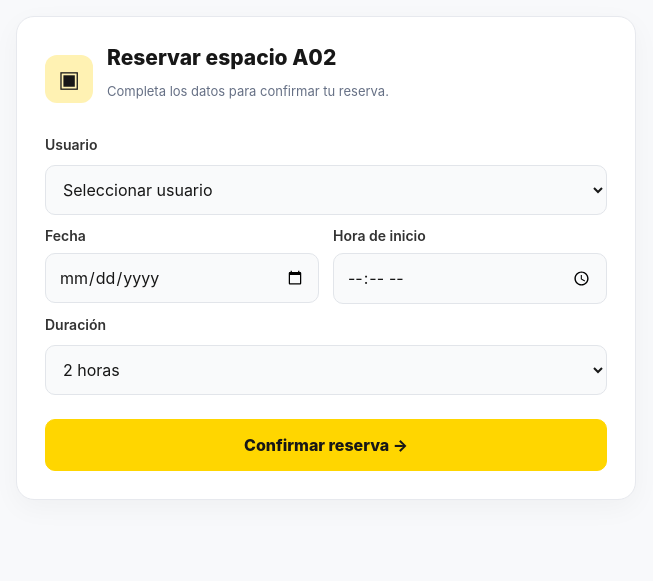
Test case: BookingForm › does not submit an invalid past date
Select "Usuario Prueba — prueba@example.com" in the dropdown labelled "Usuario" at (326, 190), box [45,165,607,215]
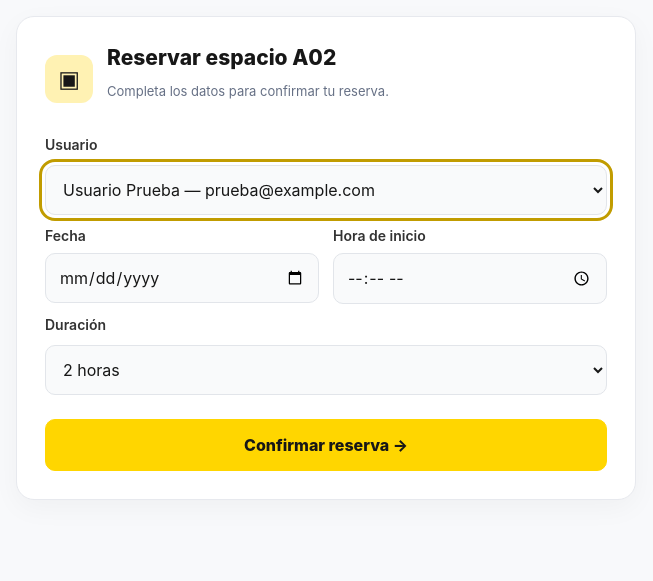
Type "2020-01-01" into the date field labelled "Fecha" at (182, 278), box [45,253,319,303]
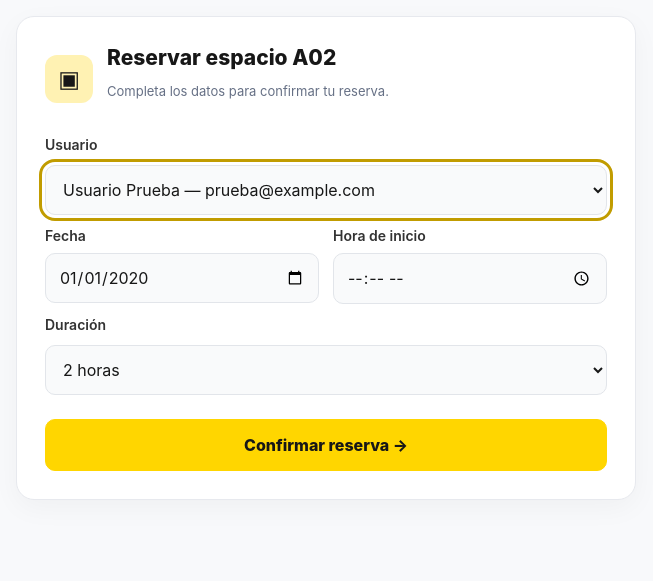
Type "10:00" into the time field labelled "Hora de inicio" at (470, 278), box [333,253,607,304]
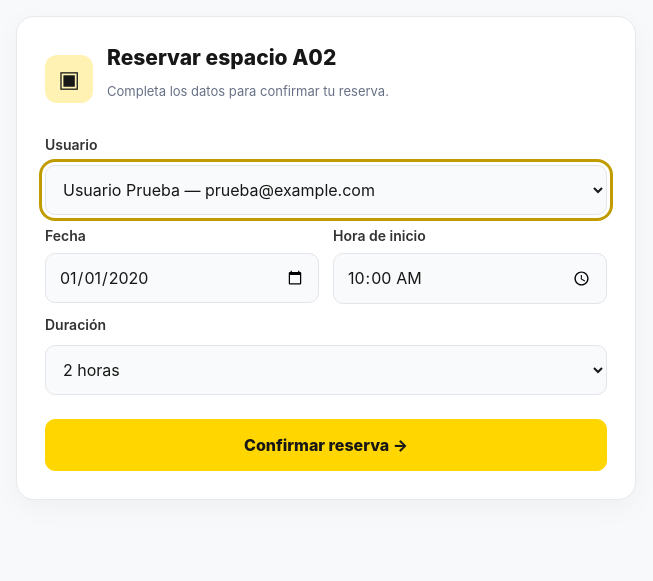
Click the button "Confirmar reserva →" at (326, 445), box [45,419,607,471]
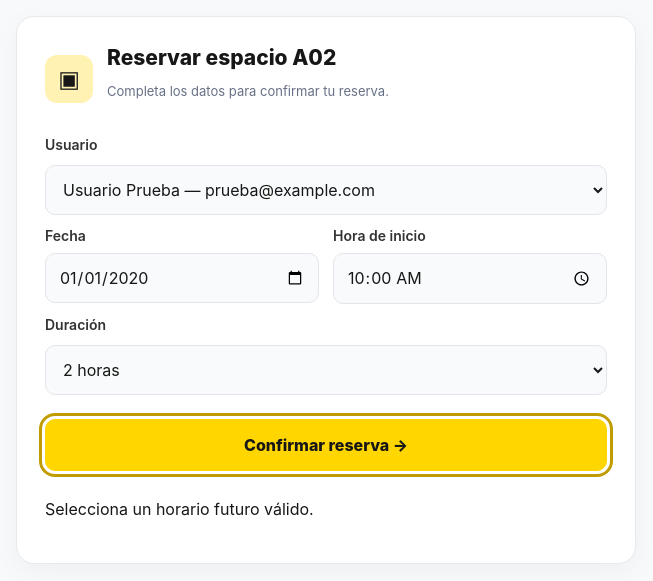
Check: the message shows "horario futuro", box [45,499,314,519]
